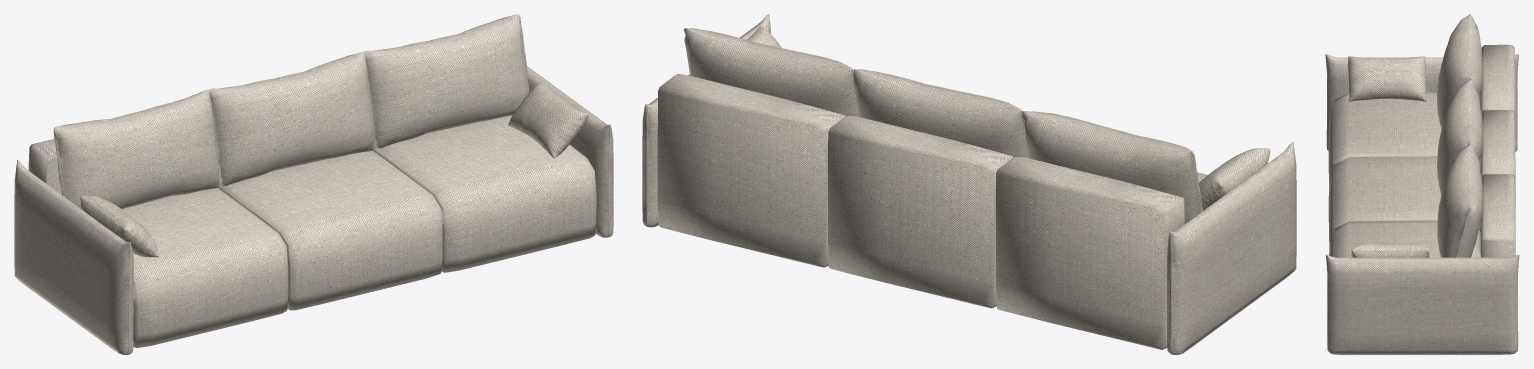
The model's file is NFG-I0034.glb.
3 renders of one model, left to right at view 1: azimuth 30°, elevation 25°; view 2: azimuth 150°, elevation 25°; view 3: azimuth 270°, elevation 25°, orthographic. The views are drawn at different scales.
Parts seen in each view (by area): view 1: RONNY_280; view 2: RONNY_280; view 3: RONNY_280.
Part boxes in pixels (box(x1,y1,x2,y2)): RONNY_280: box(14, 14, 613, 354); RONNY_280: box(642, 14, 1296, 354); RONNY_280: box(1325, 14, 1519, 354).
Bounding box in the file's own units: 2 × 0.6378 × 0.7878.
1 material, 1 textured.
